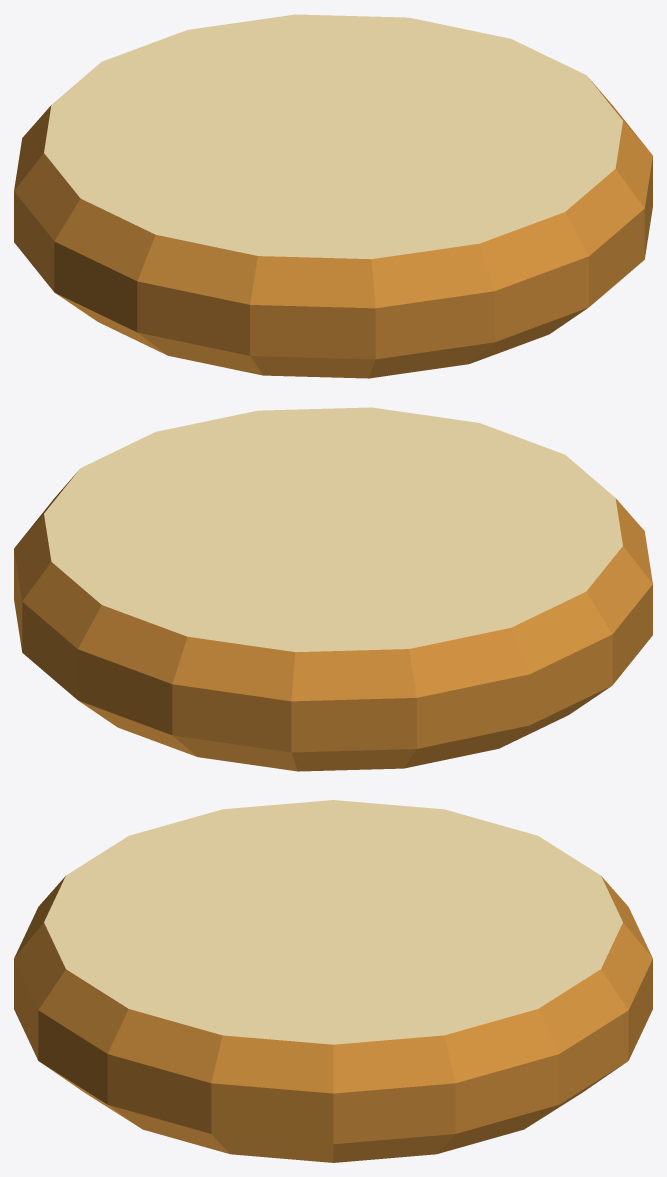
Rendered from bun_bottom.glb.
3 views of the same model, one above another, from view 1: azimuth 30°, elevation 25°; view 2: azimuth 150°, elevation 25°; view 3: azimuth 270°, elevation 25° (orthographic).
Visible parts, largest first — view 1: BunBottom; view 2: BunBottom; view 3: BunBottom.
Part boxes in pixels (x1=…): BunBottom: x1=14, y1=14, x2=652, y2=378; BunBottom: x1=14, y1=407, x2=652, y2=771; BunBottom: x1=14, y1=800, x2=652, y2=1162.
Size of the model in its own units: 3.2 by 0.7 by 3.2.
